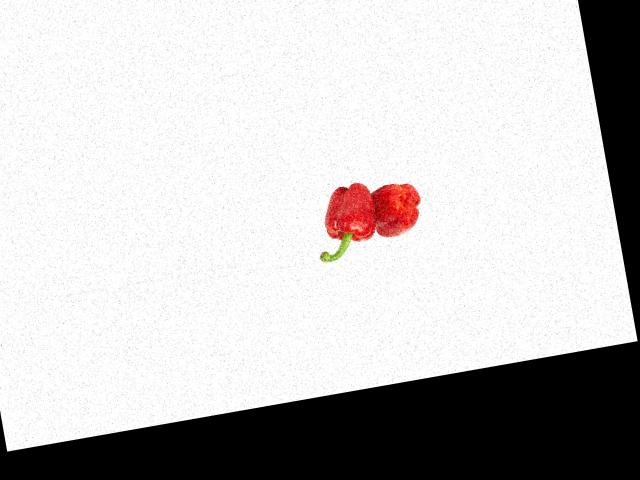bell_pepper: (368, 176, 426, 242)
